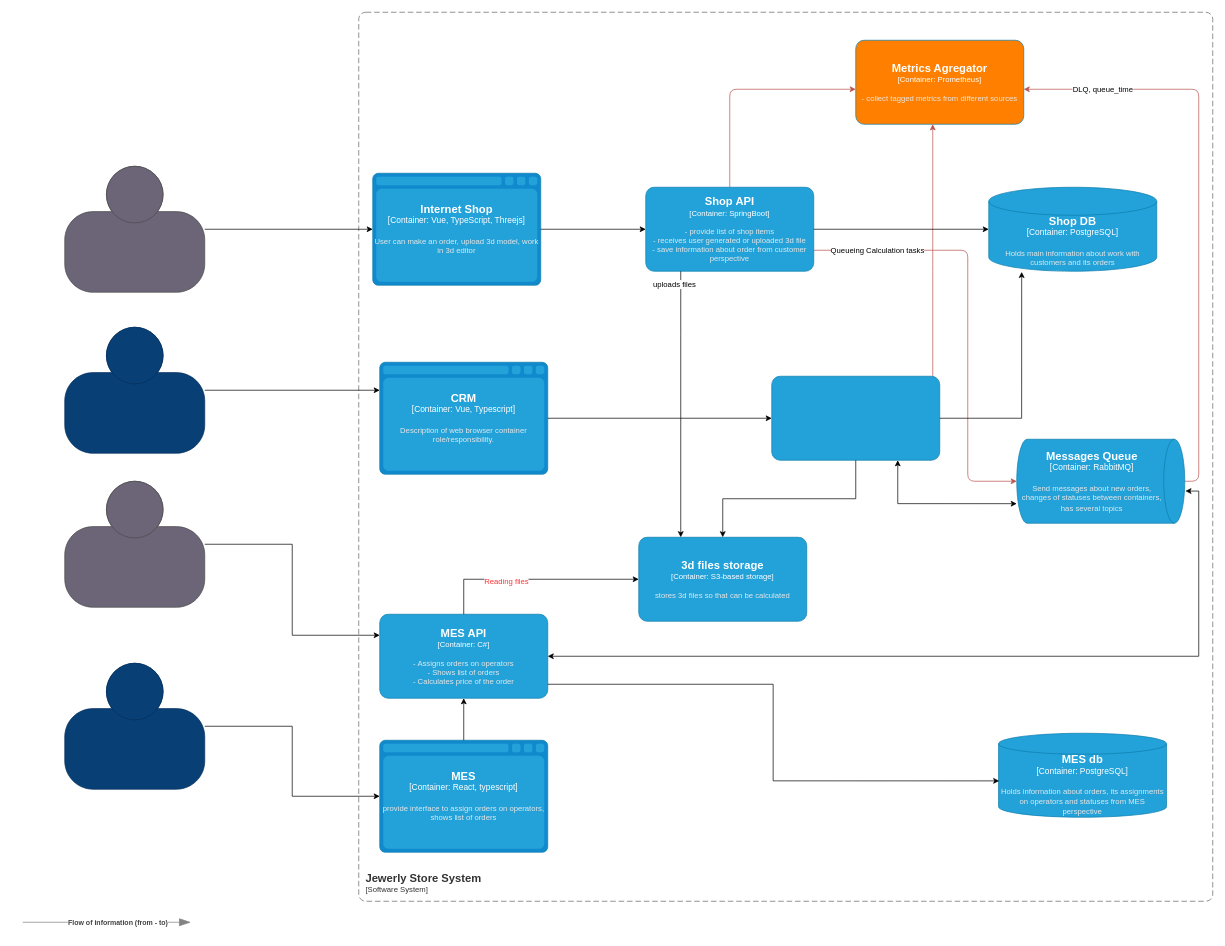
This 1225x946 diagram has some shape labels left out. The shapes that lost their labels are listed below. From the top down, each one's centre as x and y in pixels, then its label:
At point 134,229: "Customer [Person] Description of external person.".
At point 134,390: "Seller [Person] Operates with order, confirms manufacturing for the user".
At point 855,418: "CRM API [Container: SpringBoot] Description of container role/responsibility.".
At point 134,544: "API user [Person] Description of external person.".
At point 134,726: "Operator [Person] Takes order in work, manufactures jewerly".
